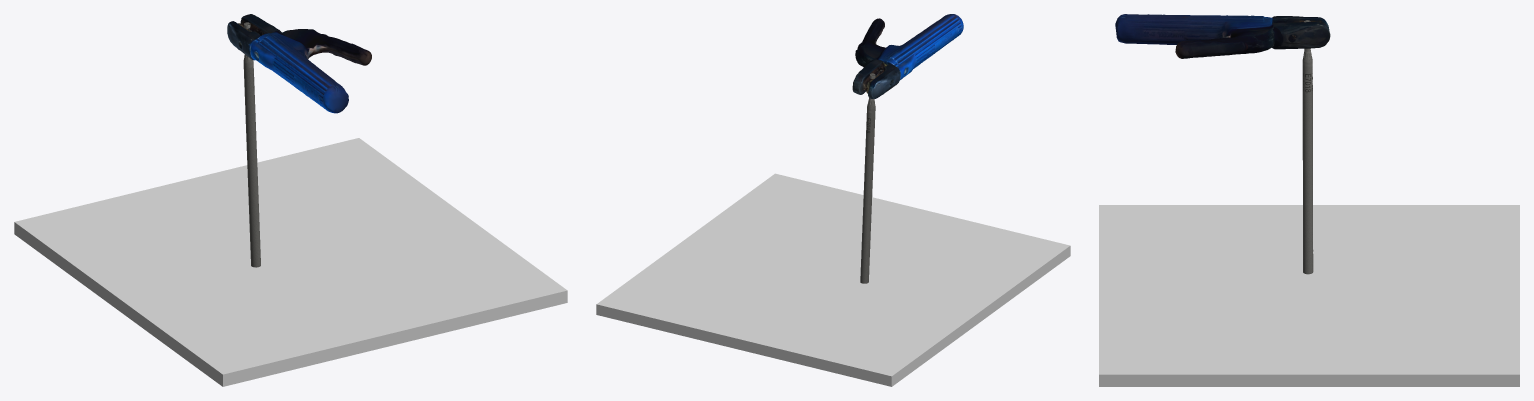
The model's file is sudut-ok-anim-1.glb.
3 renders of one model, left to right at view 1: azimuth 30°, elevation 25°; view 2: azimuth 150°, elevation 25°; view 3: azimuth 270°, elevation 25°, orthographic. The views are drawn at different scales.
Visible parts, largest first — view 1: Cube, 3DModel; view 2: Cube, 3DModel; view 3: Cube, 3DModel.
Boxes of the visible parts, x1,y1,x2,y2 form: Cube: (14,138,567,386); 3DModel: (227,14,371,267); Cube: (596,173,1070,386); 3DModel: (852,14,963,283); Cube: (1099,205,1519,386); 3DModel: (1115,14,1330,274).
Bounding box in the file's own units: 2.78 × 2.02 × 2.91.
2 materials, 2 textured.
